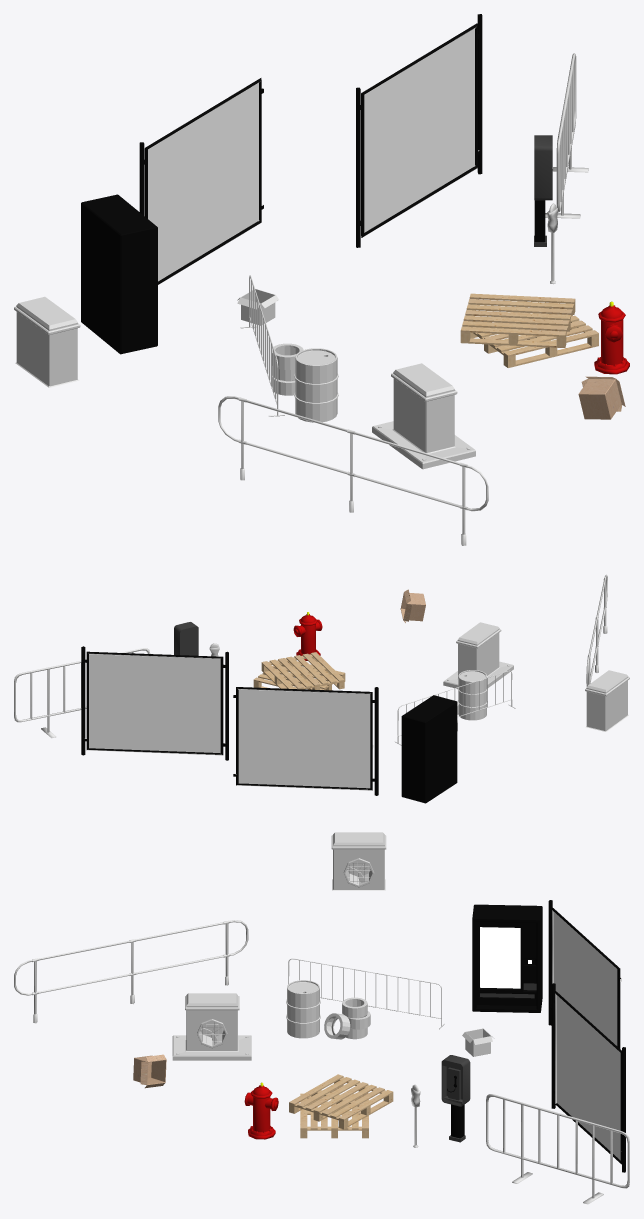
File: мелочь.fbx
3 renders of one model, top to bottom at view 1: azimuth 30°, elevation 25°; view 2: azimuth 150°, elevation 25°; view 3: azimuth 270°, elevation 25°, orthographic. The views are drawn at different scales.
Parts seen in each view (by area): view 1: Barrier_1, Barrier_1_1, Vending, Conditioner, Pallet, Wall_conditioner, Barrel, Barrier_3, Pallet_2, Barrier_4, Phone_box, Hydrant (+4 smaller); view 2: Barrier_1, Barrier_1_1, Vending, Conditioner, Wall_conditioner, Pallet, Barrel, Barrier_4, Barrier_3, Phone_box, Hydrant, box_1 (+2 smaller); view 3: Barrier_1, Vending, Barrier_1_1, Conditioner, Pallet, Wall_conditioner, Barrier_4, Barrier_3, Phone_box, Barrel, Tyres, Hydrant (+4 smaller).
Boxes of the visible parts, bbox=[...] form: Barrier_1: bbox=[356, 14, 482, 247]; Barrier_1_1: bbox=[139, 78, 263, 284]; Vending: bbox=[81, 194, 157, 354]; Conditioner: bbox=[372, 363, 475, 469]; Pallet: bbox=[460, 293, 575, 347]; Wall_conditioner: bbox=[14, 296, 80, 387]; Barrel: bbox=[294, 348, 338, 422]; Barrier_3: bbox=[218, 396, 488, 545]; Pallet_2: bbox=[470, 302, 598, 367]; Barrier_4: bbox=[545, 53, 588, 218]; Phone_box: bbox=[534, 135, 552, 246]; Hydrant: bbox=[594, 301, 629, 374]; Barrier_1: bbox=[81, 646, 228, 760]; Barrier_1_1: bbox=[233, 687, 378, 795]; Vending: bbox=[401, 695, 457, 803]; Conditioner: bbox=[443, 622, 513, 688]; Wall_conditioner: bbox=[585, 670, 629, 731]; Pallet: bbox=[261, 652, 344, 689]; Barrel: bbox=[457, 670, 487, 720]; Barrier_4: bbox=[14, 648, 150, 738]; Barrier_3: bbox=[586, 574, 607, 686]; Phone_box: bbox=[174, 622, 198, 655]; Hydrant: bbox=[293, 612, 322, 660]; box_1: bbox=[400, 589, 425, 622]; Barrier_1: bbox=[551, 983, 625, 1172]; Vending: bbox=[472, 904, 542, 1012]; Barrier_1_1: bbox=[548, 900, 621, 1048]; Conditioner: bbox=[172, 993, 251, 1060]; Pallet: bbox=[289, 1074, 393, 1129]; Wall_conditioner: bbox=[331, 832, 386, 890]; Barrier_4: bbox=[486, 1094, 629, 1204]; Barrier_3: bbox=[14, 920, 248, 1023]; Phone_box: bbox=[441, 1055, 470, 1142]; Barrel: bbox=[286, 980, 320, 1038]; Tyres: bbox=[324, 997, 370, 1039]; Hydrant: bbox=[244, 1082, 278, 1139].
Bounding box in the file's own units: 944 × 201 × 897.
Materials: 8 (2 with a texture image).
